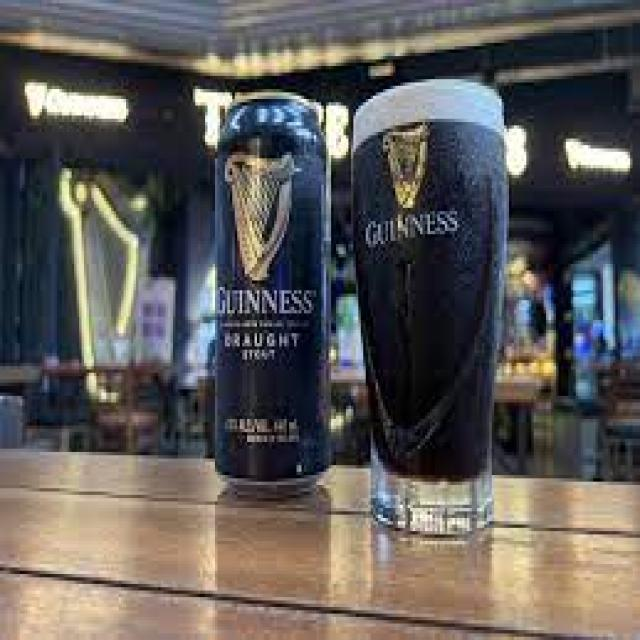Cans: (208, 89, 344, 502)
